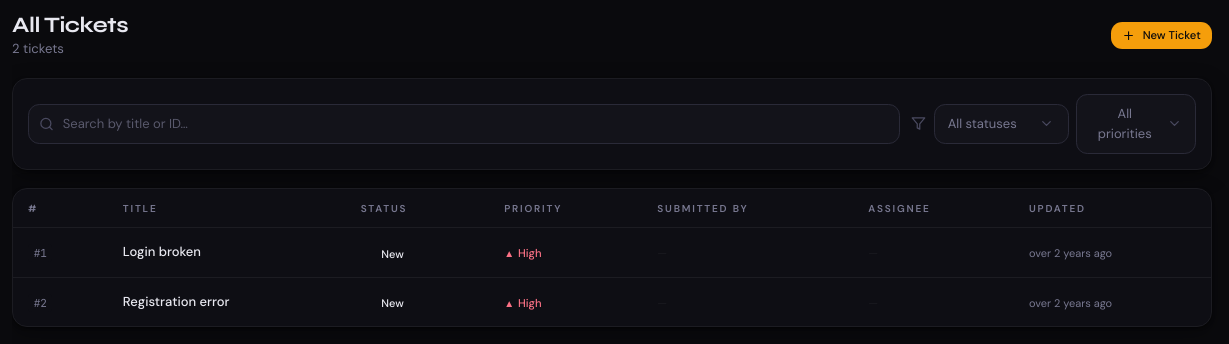
it: TicketsPage — search filter › filters by title
Expected: the text "Login broken" is shown, [123,243,201,260]
Type "login" into the field with placeholder "Search by title or ID…". click: (464, 124)
box: [28,104,900,144]
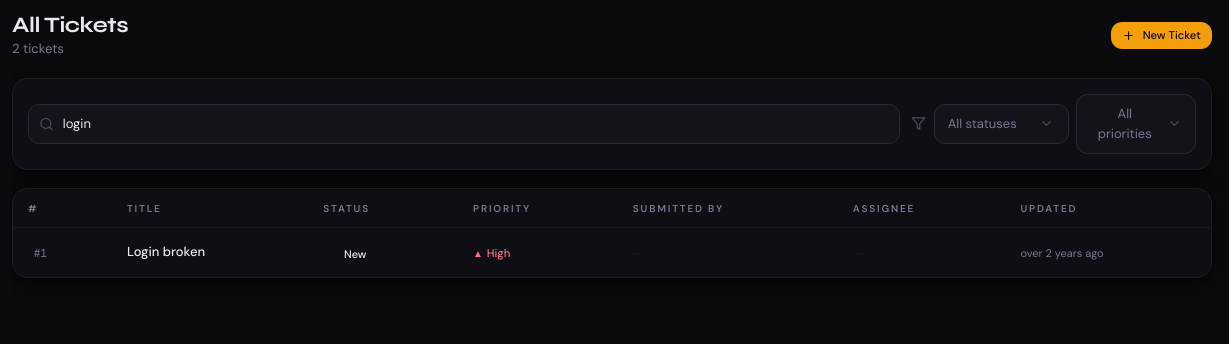
Expected: the text "Login broken" is shown, [127,243,205,260]
Expected: the link "Registration error" is gone
